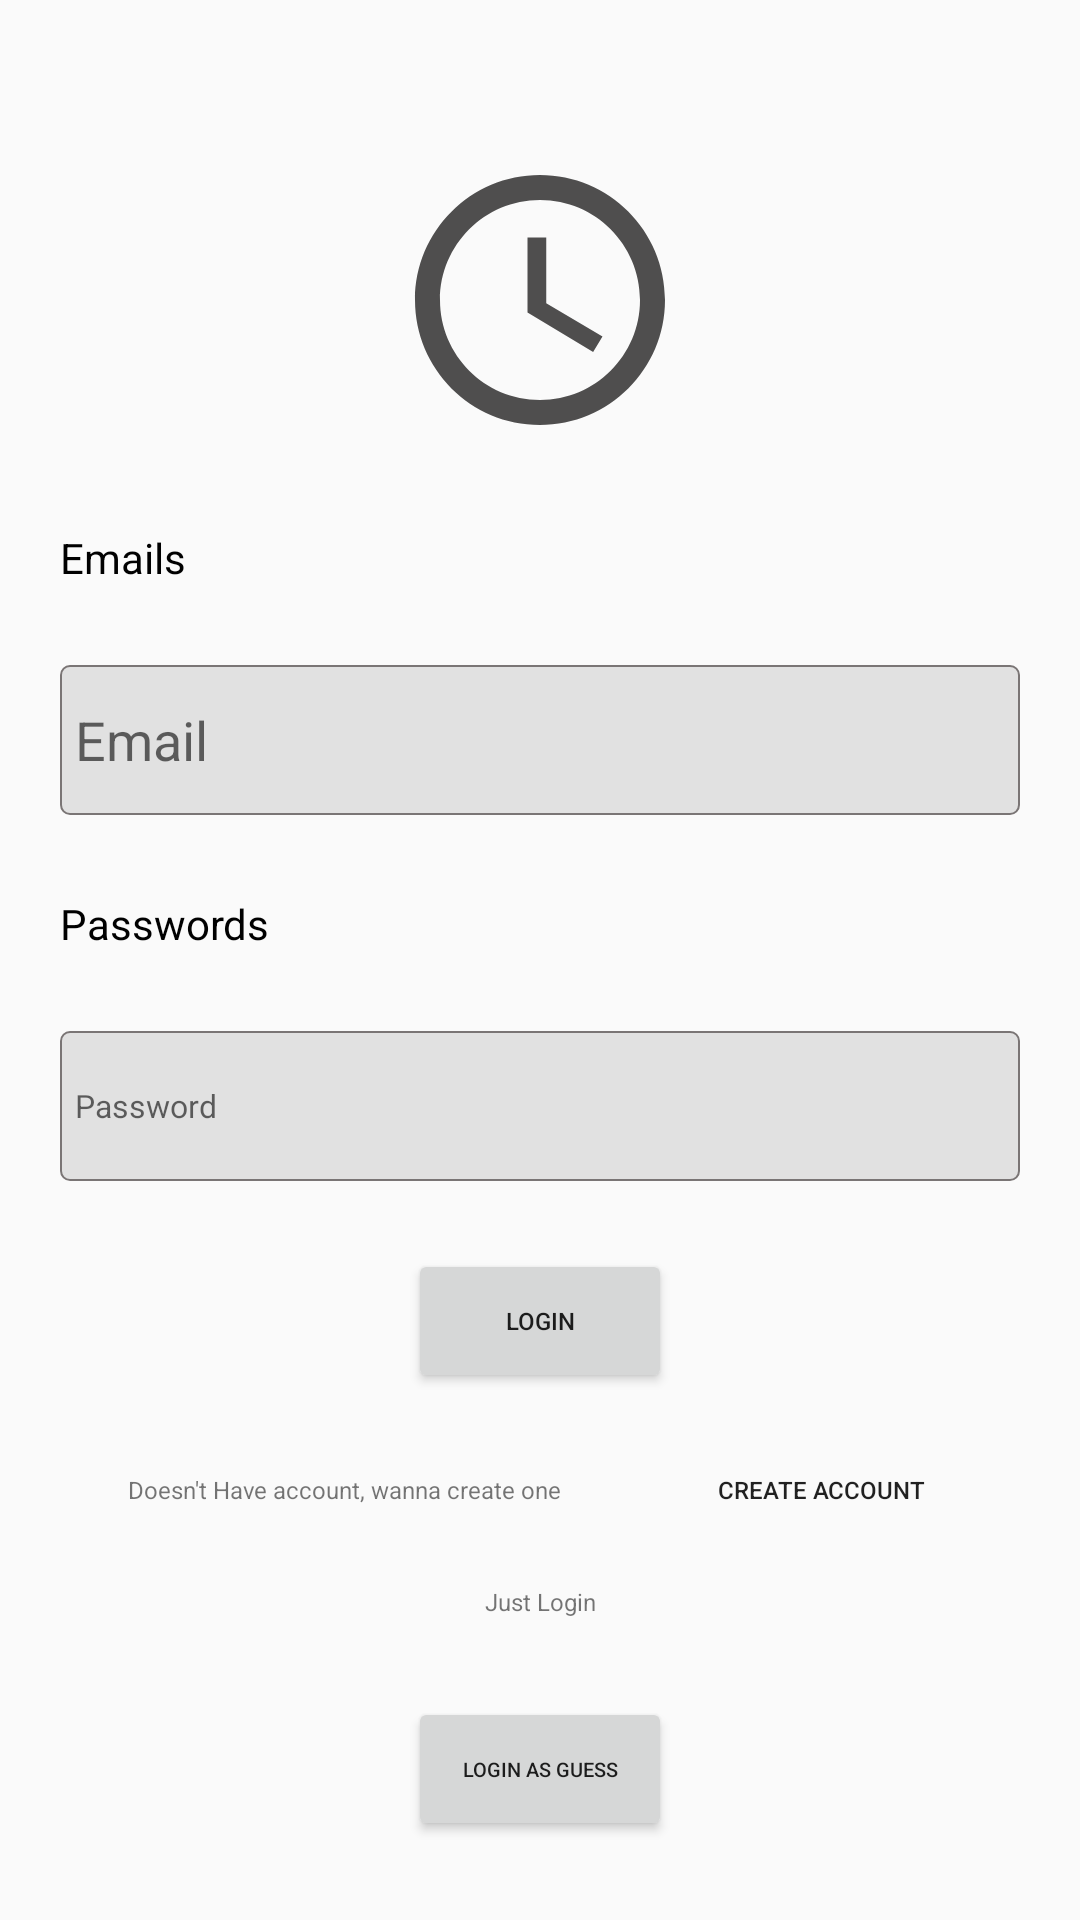

Named icons in this screenshot (1080px x 1920px) and their centers, [x,y]:
access time: [540,300]
